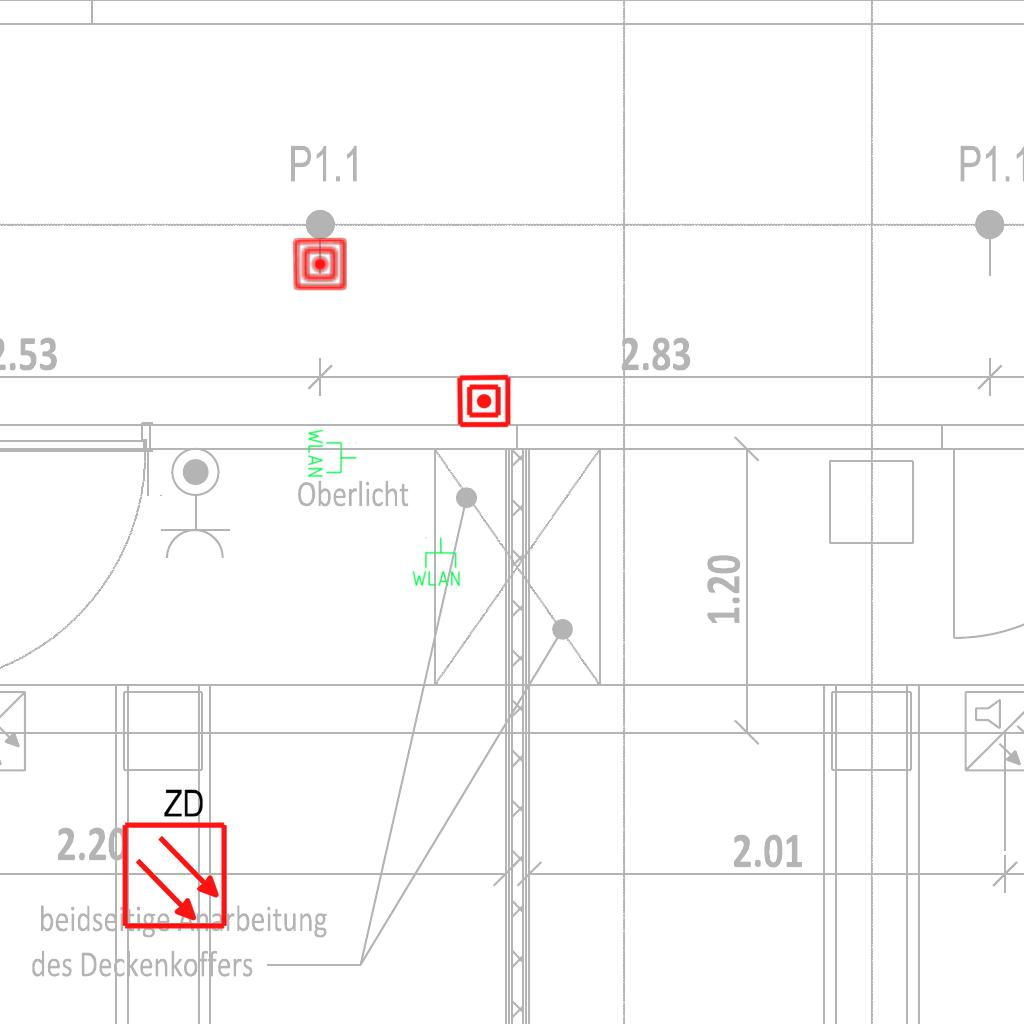NAM-Nichtautomatischer_Melder: (456, 373, 512, 429), (292, 236, 348, 292)
WLAN: (410, 536, 462, 588), (306, 427, 358, 479)
ZD_Melder_in_Zwischendecke_mit_Revisionsoeffnung_mind_40_x_40_cm: (116, 782, 230, 931)
